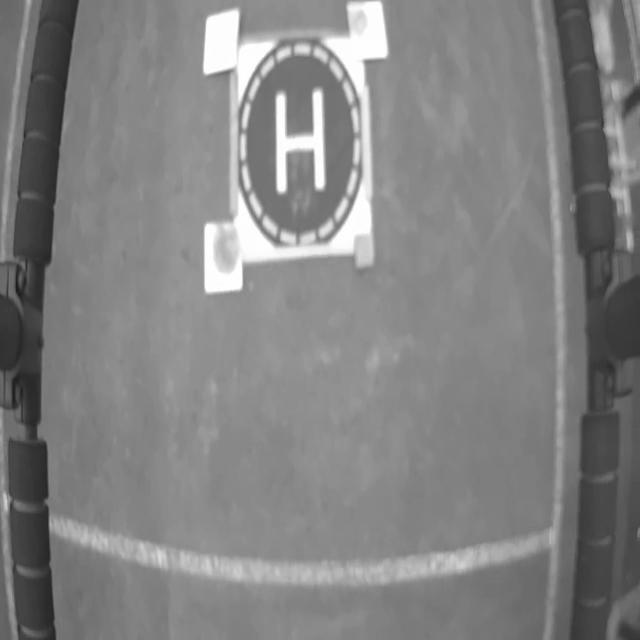Helipad: (276, 86, 327, 196)
